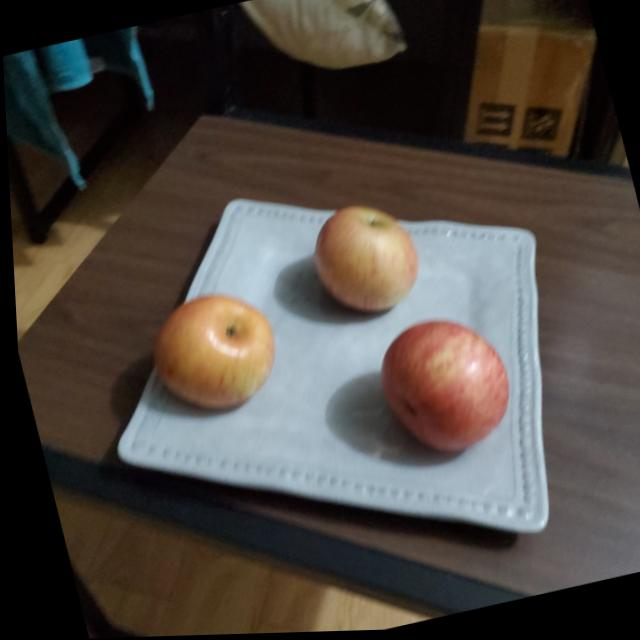apple: (364, 312, 519, 465), (138, 286, 282, 424), (297, 195, 429, 328)
